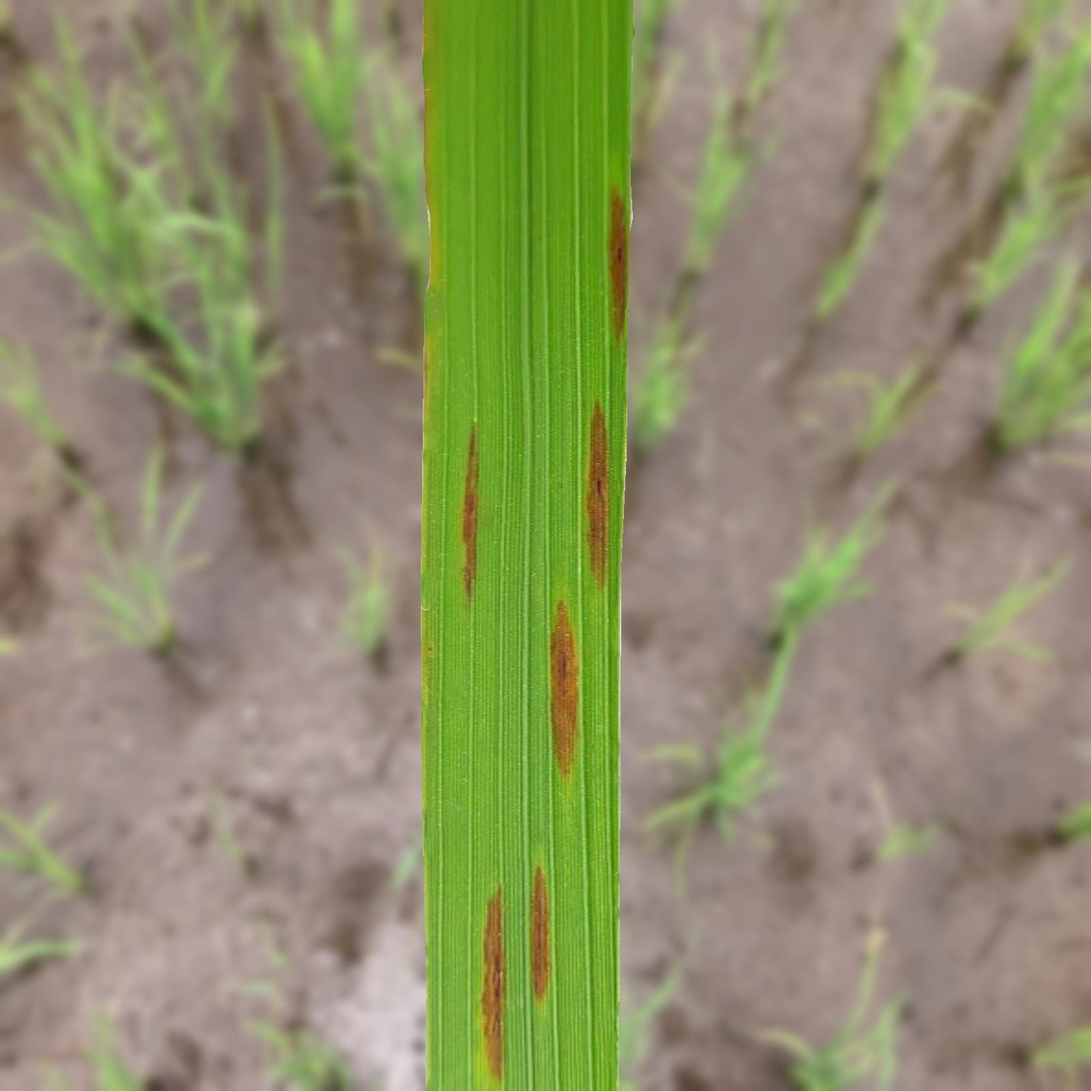LEAF: (421, 0, 634, 1090)
NBS: (550, 600, 579, 779), (481, 887, 505, 1080), (586, 402, 609, 586), (609, 188, 629, 338), (462, 423, 479, 596), (533, 866, 550, 1002)
